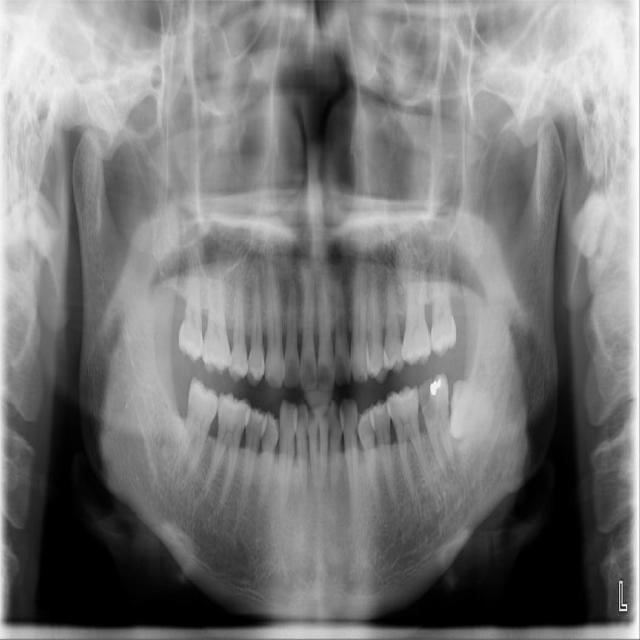Caries: (420, 382, 436, 420)
Filling: (430, 379, 440, 396)
impacted tooth: (450, 379, 498, 437)
